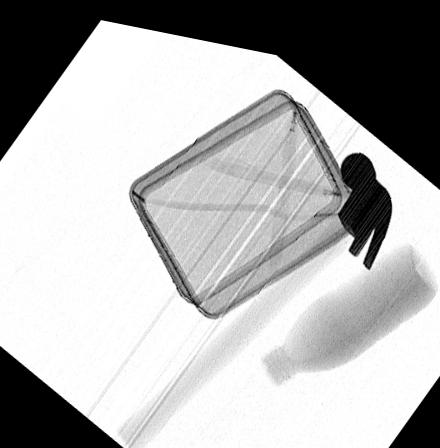Hammer: (115, 135, 393, 448)
